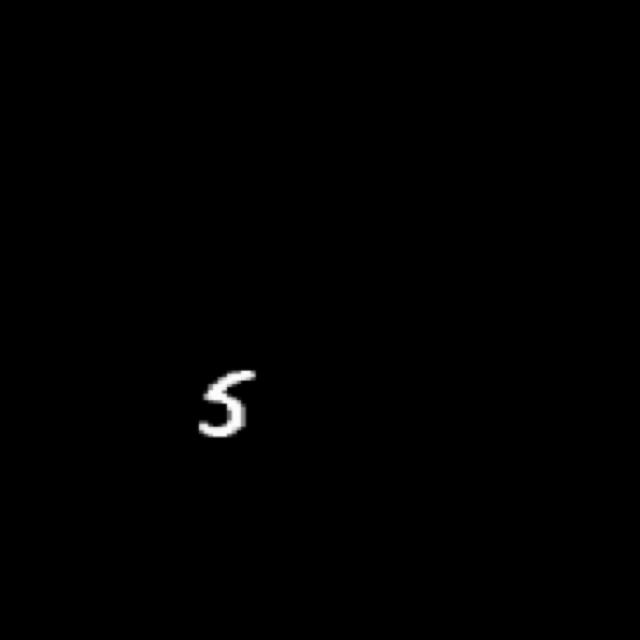five -5-: (185, 364, 263, 444)
